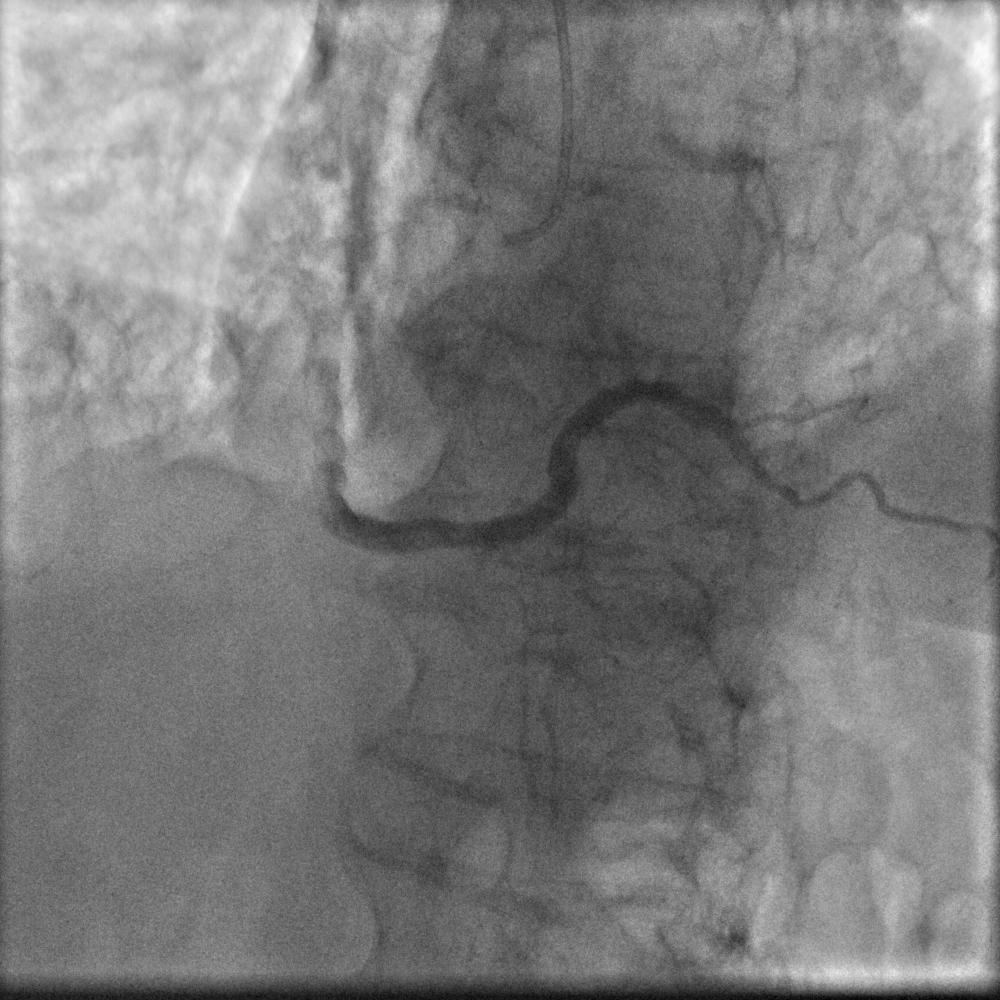Stenosis: (748, 437, 793, 512)
